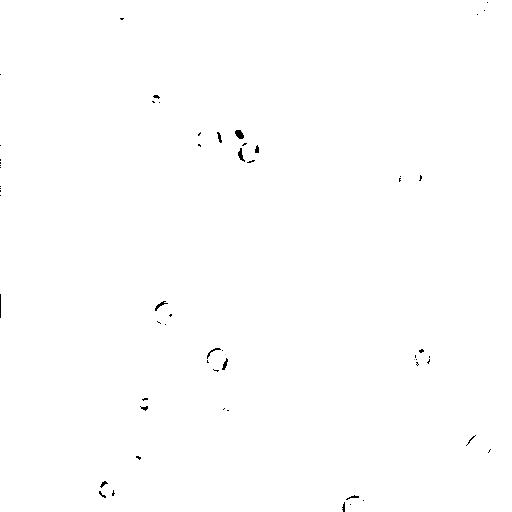micro-algae: (277, 79, 423, 219), (337, 0, 429, 39), (463, 427, 499, 470), (99, 2, 138, 41), (119, 428, 156, 468), (220, 114, 255, 149), (89, 470, 121, 505), (397, 158, 429, 191), (187, 124, 219, 155), (129, 385, 160, 417), (215, 405, 244, 436), (153, 298, 182, 327), (205, 345, 229, 375), (234, 138, 260, 164), (315, 0, 365, 12), (409, 343, 432, 369), (340, 494, 368, 512), (464, 0, 490, 17)
